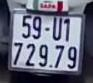1: (64, 16, 73, 43)
2: (25, 42, 37, 68)
5: (20, 13, 33, 40)
7: (53, 44, 66, 69), (13, 39, 22, 66)
9: (38, 44, 49, 67), (33, 15, 43, 40), (67, 45, 77, 70)
U: (49, 16, 63, 42)
